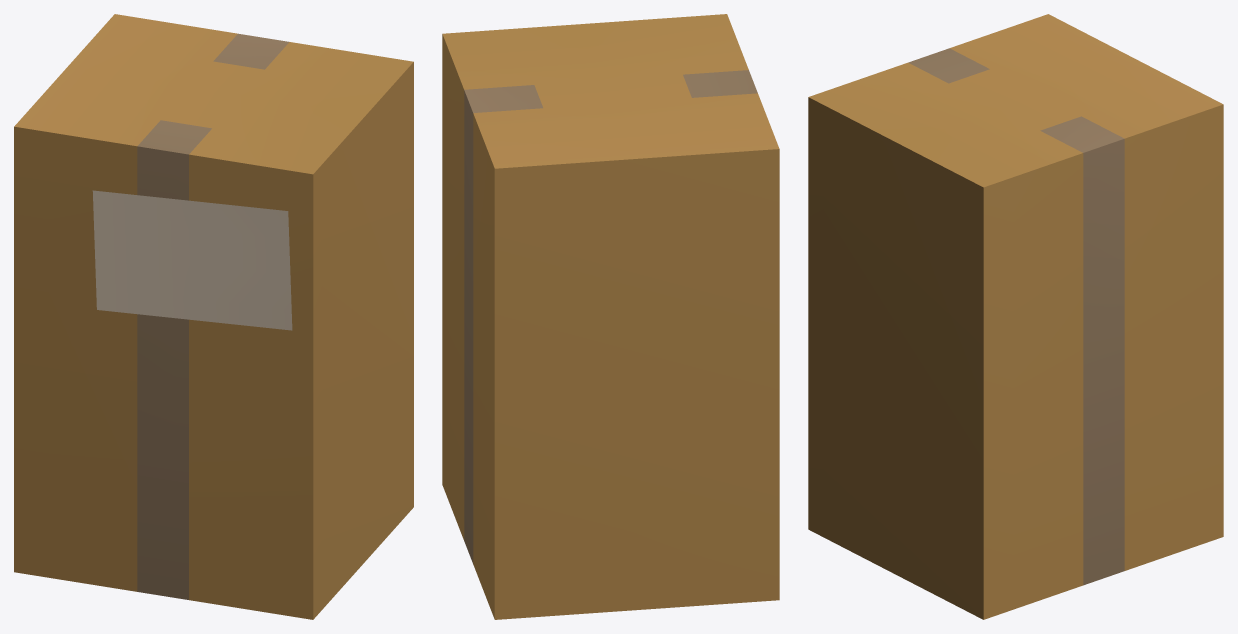
Rendered from package1.fbx.
3 renders of one model, left to right at view 1: azimuth 30°, elevation 25°; view 2: azimuth 150°, elevation 25°; view 3: azimuth 270°, elevation 25°, orthographic. The views are drawn at different scales.
Visible parts, largest first — view 1: polySurface1074; view 2: polySurface1074; view 3: polySurface1074.
Part boxes in pixels (<box>): polySurface1074: <box>14,14,413,619</box>; polySurface1074: <box>442,14,779,619</box>; polySurface1074: <box>808,14,1223,619</box>.
Size of the model in its own units: 6.74 by 7.83 by 6.81.
Materials: 1 (1 with a texture image).
